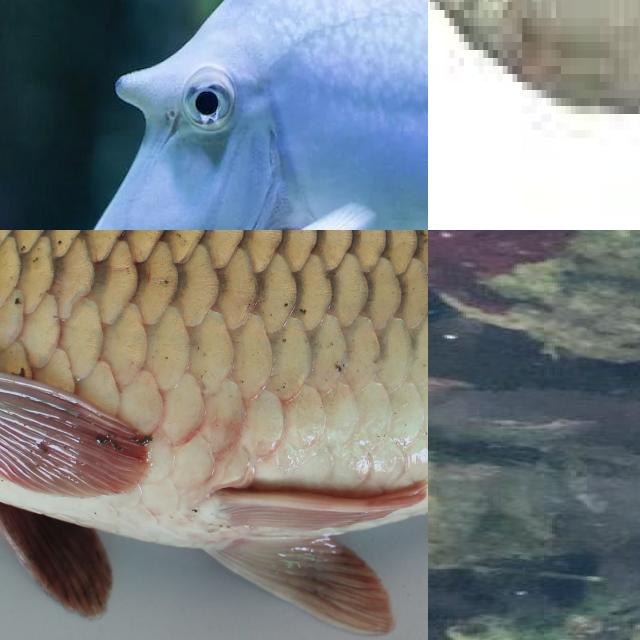fish: (0, 230, 428, 576), (0, 0, 428, 230), (428, 0, 640, 226)
